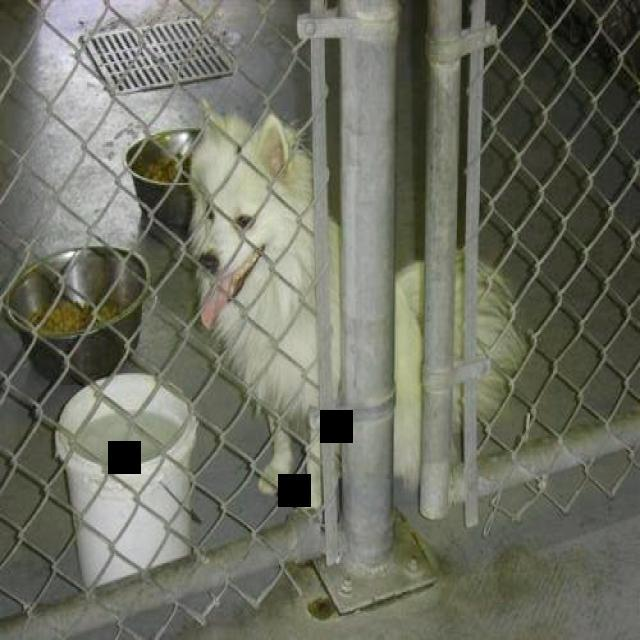adult_dog: (176, 103, 531, 496)
